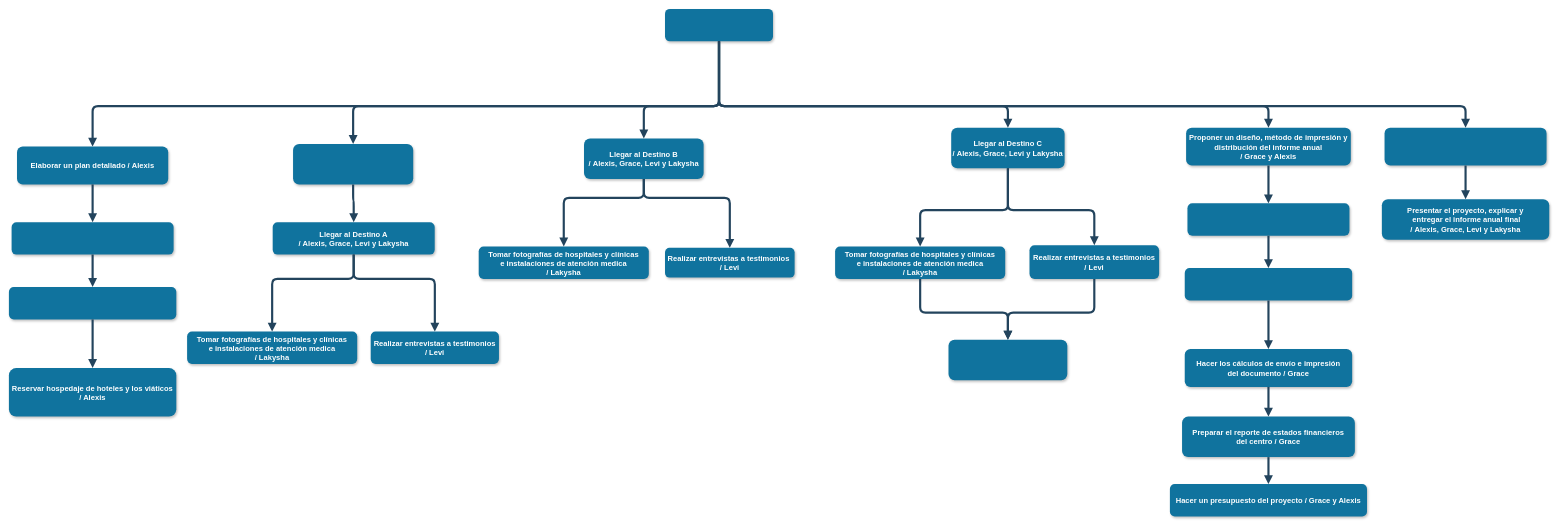
This 1558x525 diagram has some shape labels left out. The shapes that lost their labels are listed below. From the top down, each one's centre as x and y in pixels, then its label:
At point 719,25: "Informe Anual".
At point 353,164: "Irse de viaje / Alexis, Grace, Levi y Lakysha".
At point 1466,147: "Preparar el informe anual, con gráficas y información detallada / Levi y Alexis".
At point 93,239: "Elaborar el programa del proyecto / Alexis".
At point 1268,220: "Contratar a varios contratistas / Alexis".
At point 92,304: "Reservar los viajes a los destinos A, B y C / Alexis".
At point 1268,285: "Analizar las propuestas y precios estimados de los contratistas / Alexis y Grace".
At point 1008,360: "Volver de viaje / Alexis, Grace, Levi y Lakysha".
